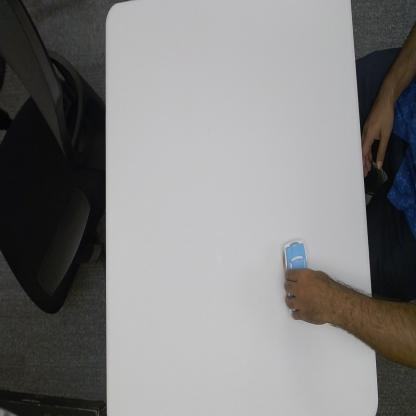Arm: (329, 276, 373, 343)
Car: (281, 238, 309, 272)
Hand: (283, 266, 330, 327)
